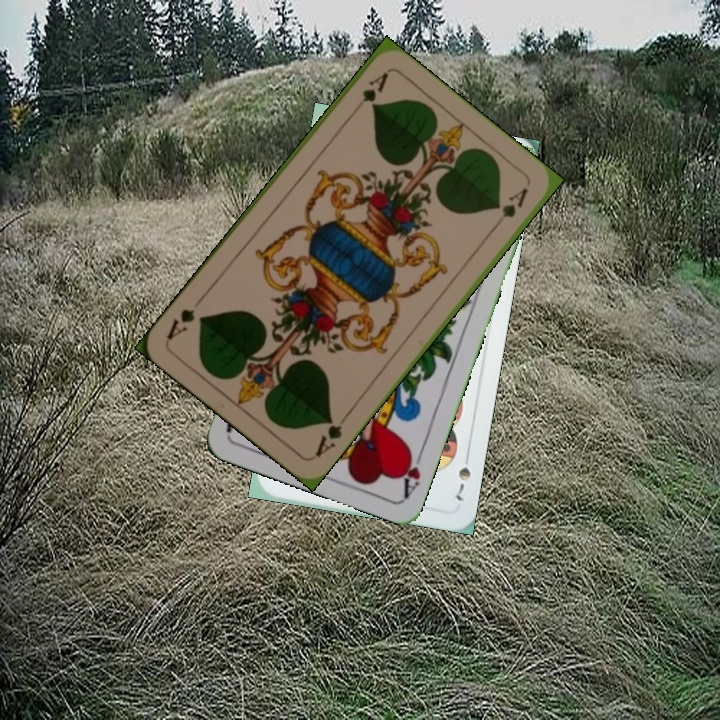GA: (311, 409, 352, 460), (358, 68, 391, 105)
HA: (396, 442, 428, 500)
S7: (451, 463, 474, 504)
